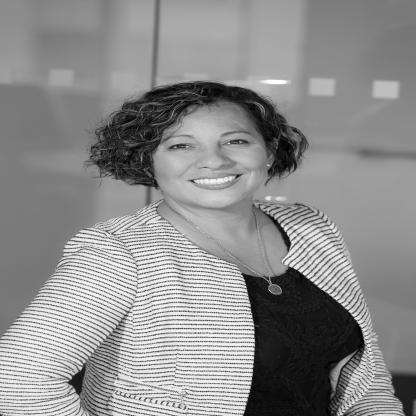Eye: (221, 138, 251, 148), (166, 142, 196, 152)
Mouth: (188, 172, 244, 190)
Nose: (196, 146, 232, 170)
